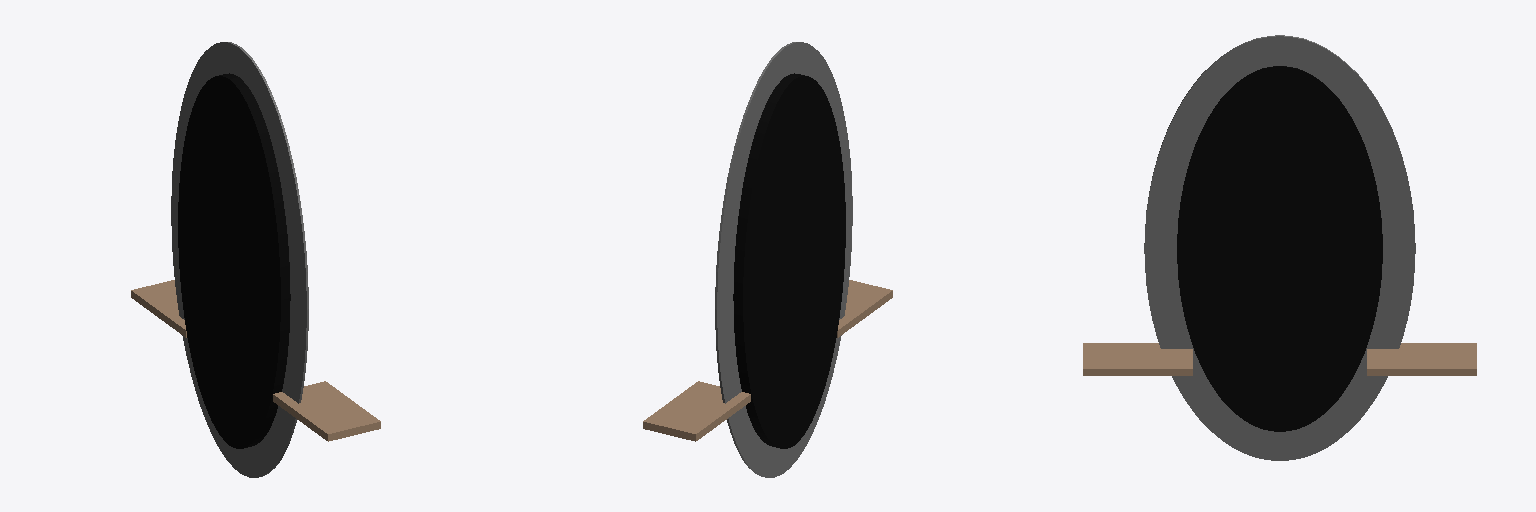
File: Mirror.obj
3 views of the same model, side by side, from view 1: azimuth 30°, elevation 25°; view 2: azimuth 150°, elevation 25°; view 3: azimuth 270°, elevation 25° (orthographic).
Visible parts, largest first — view 1: Celia_Mirr, Celia2, Celia_Stru; view 2: Celia_Mirr, Celia2, Celia_Stru; view 3: Celia_Mirr, Celia2, Celia_Stru.
Boxes of the visible parts, <box> form: Celia_Mirr: <box>178,73,290,448</box>; Celia2: <box>171,42,308,477</box>; Celia_Stru: <box>131,280,380,441</box>; Celia_Mirr: <box>733,73,845,448</box>; Celia2: <box>715,42,852,477</box>; Celia_Stru: <box>643,280,892,441</box>; Celia_Mirr: <box>1177,66,1382,431</box>; Celia2: <box>1144,35,1415,460</box>; Celia_Stru: <box>1083,343,1476,375</box>.
Bounding box in the file's own units: 0.15 × 1.15 × 0.965.